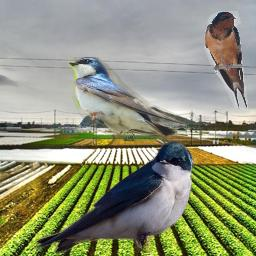Swallow: (34, 141, 194, 253), (68, 57, 187, 146), (204, 11, 248, 110)
